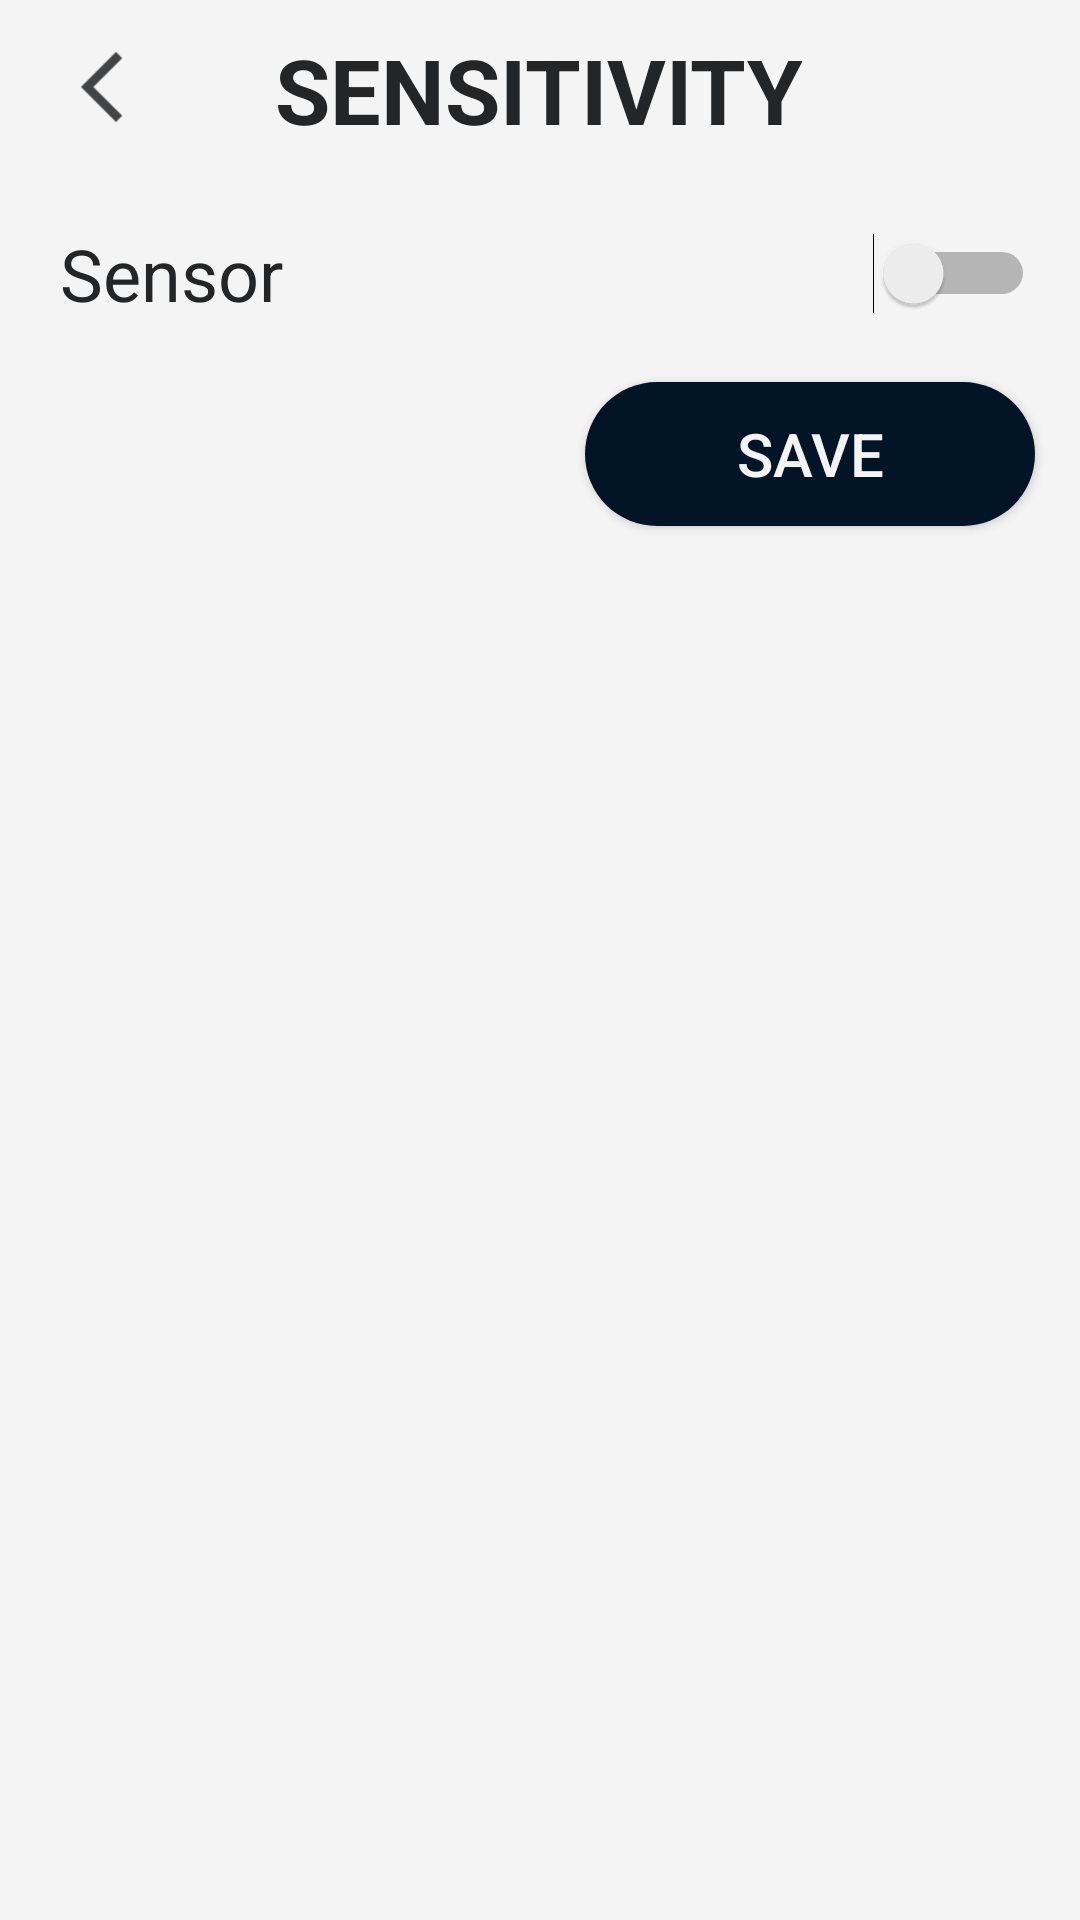

Point at icon controls on the screen. Image size 1080 x 1920, points as (x,y).
back: (101,87)
